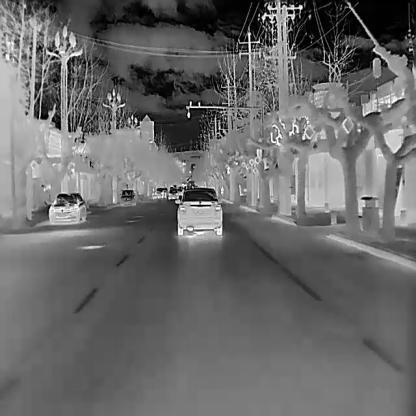car: (174, 185, 223, 235), (47, 191, 87, 223), (119, 189, 135, 207), (155, 187, 167, 200), (168, 187, 178, 201)
